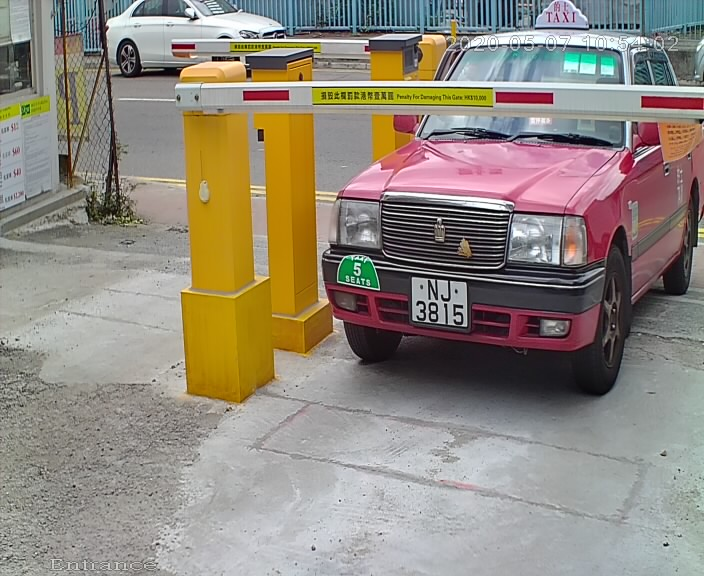taxi: (320, 37, 704, 385)
taxi_mark: (332, 245, 389, 300)
